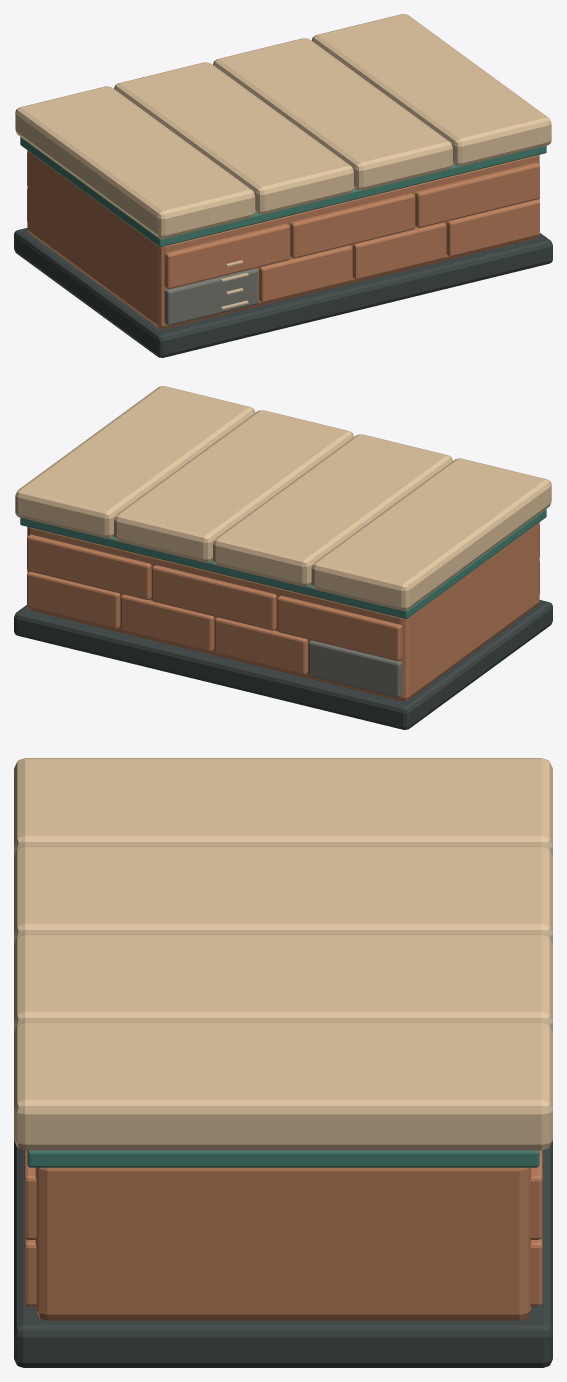
File: cover-bank-parapet.glb
3 views of the same model, one above another, from view 1: azimuth 30°, elevation 25°; view 2: azimuth 150°, elevation 25°; view 3: azimuth 270°, elevation 25° (orthographic). The views are drawn at different scales.
Parts seen in each view (by area): view 1: Split coping, Split coping.003, Split coping.001, Split coping.002, Bank batter, Bank footing, Bank ashlar.010, Bank ashlar.012, Bank ashlar.008, Flood line, Bank ashlar.004, Bank ashlar.002 (+2 smaller); view 2: Split coping, Split coping.003, Split coping.001, Split coping.002, Bank batter, Bank footing, Bank ashlar.009, Bank ashlar.011, Bank ashlar.013, Flood line, Bank ashlar.001, Bank ashlar.005 (+2 smaller); view 3: Bank batter, Split coping.003, Split coping.002, Split coping, Split coping.001, Bank footing, Flood line, Bank ashlar.012, Bank ashlar.013, Bank ashlar.006, Bank ashlar.007.
Part boxes in pixels (x1,y1,x2,y2): Split coping: (15,86,255,238); Split coping.003: (311,14,551,166); Split coping.001: (114,62,353,214); Split coping.002: (213,38,452,190); Bank batter: (27,150,539,329); Bank footing: (14,228,552,357); Bank ashlar.010: (290,193,414,258); Bank ashlar.012: (415,162,539,227); Bank ashlar.008: (164,223,289,288); Flood line: (20,137,546,246); Bank ashlar.004: (352,222,446,279); Bank ashlar.002: (259,245,352,302); Split coping: (311,458,551,610); Split coping.003: (15,386,255,538); Split coping.001: (213,434,452,586); Split coping.002: (114,410,353,562); Bank batter: (27,522,539,701); Bank footing: (14,600,552,729); Bank ashlar.009: (277,595,402,660); Bank ashlar.011: (152,565,276,630); Bank ashlar.013: (27,534,151,599); Flood line: (20,509,546,618); Bank ashlar.001: (308,640,402,697); Bank ashlar.005: (120,594,214,651); Bank batter: (35,1167,531,1320); Split coping.003: (14,1022,552,1150); Split coping.002: (14,934,552,1031); Split coping: (14,758,552,855); Split coping.001: (14,846,552,943); Bank footing: (14,1140,552,1367); Flood line: (27,1150,539,1167); Bank ashlar.012: (24,1150,36,1239); Bank ashlar.013: (530,1150,542,1239); Bank ashlar.006: (24,1237,36,1306); Bank ashlar.007: (530,1237,542,1306).
Bounding box in the file's own units: 3.4 × 1.2 × 2.2.
